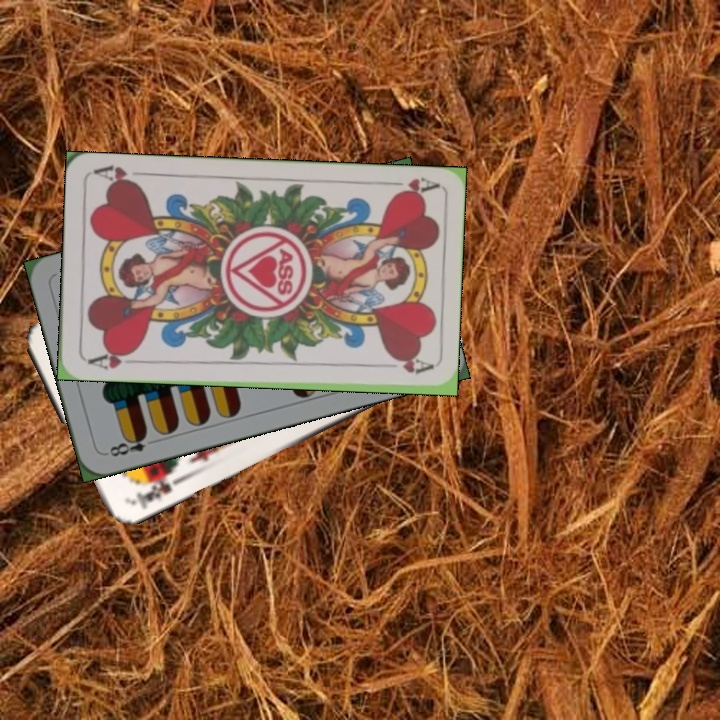E8: (101, 428, 150, 459)
HA: (380, 173, 439, 200), (84, 346, 137, 372)
SK: (125, 467, 183, 511)
